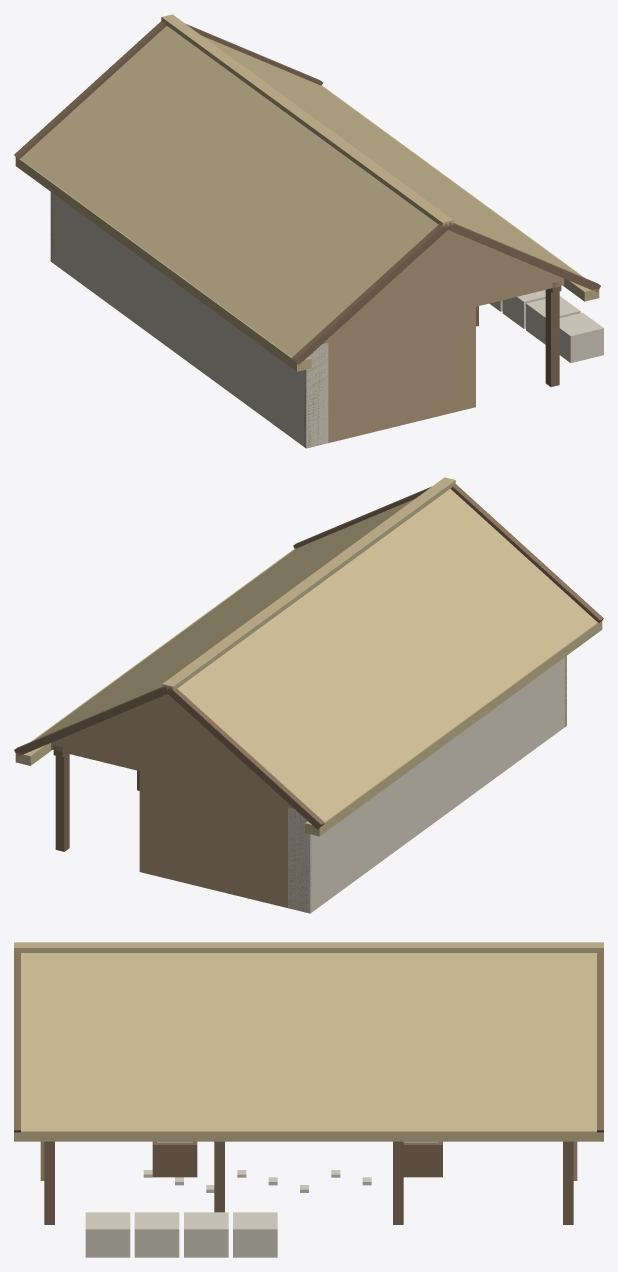
The model's file is masons_lodge.glb.
3 renders of one model, top to bottom at view 1: azimuth 30°, elevation 25°; view 2: azimuth 150°, elevation 25°; view 3: azimuth 270°, elevation 25°, orthographic. The views are drawn at different scales.
Visible parts, largest first — view 1: MasonsLodge; view 2: MasonsLodge; view 3: MasonsLodge.
Part boxes in pixels (box(x1,y1,x2,y2)): MasonsLodge: box(14, 14, 603, 448); MasonsLodge: box(14, 477, 603, 913); MasonsLodge: box(14, 942, 603, 1257).
Bounding box in the file's own units: 9.3 × 5.31 × 13.2.
